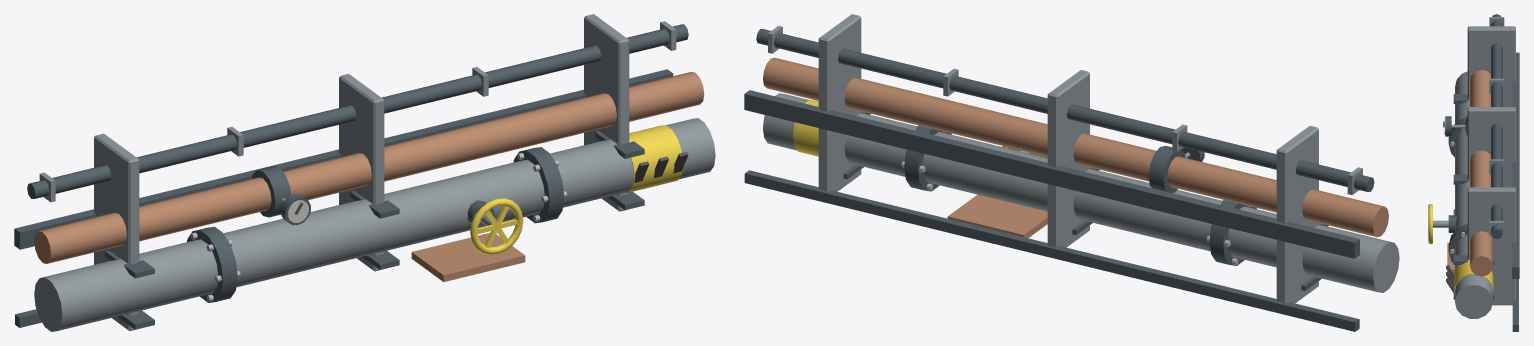
Rendered from cradle_pipe_run.glb.
The picture shows the model from 3 angles, left to right: view 1: azimuth 30°, elevation 25°; view 2: azimuth 150°, elevation 25°; view 3: azimuth 270°, elevation 25°; orthographic projection. The views are drawn at different scales.
Parts seen in each view (by area): view 1: steel.003, rust.001, darksteel.013, darksteel, steel, steel.001, steel.002, rust, hazard, darksteel.008, darksteel.009, hazard.001 (+1 smaller); view 2: rust.001, steel.003, darksteel, darksteel.001, darksteel.013, steel.002, steel.001, steel, rust, darksteel.011, darksteel.009, darksteel.008 (+1 smaller); view 3: steel.002, steel.003, rust.001, steel, steel.001, darksteel.013, darksteel, hazard, darksteel.009, darksteel.001, darksteel.008, hazard.001 (+11 smaller).
Part boxes in pixels (x1,y1,x2,y2): steel.003: [34, 118, 715, 331]; rust.001: [34, 72, 704, 263]; darksteel.013: [27, 24, 688, 198]; darksteel: [14, 69, 673, 249]; steel: [94, 133, 139, 330]; steel.001: [339, 74, 384, 271]; steel.002: [584, 14, 629, 211]; rust: [411, 233, 525, 281]; hazard: [625, 125, 682, 192]; darksteel.008: [187, 226, 237, 302]; darksteel.009: [513, 147, 564, 223]; hazard.001: [470, 198, 523, 254]; rust.001: [763, 57, 1388, 237]; steel.003: [763, 93, 1399, 292]; darksteel: [744, 90, 1359, 258]; darksteel.001: [744, 170, 1359, 331]; darksteel.013: [756, 29, 1374, 191]; steel.002: [818, 14, 861, 191]; steel.001: [1047, 70, 1089, 247]; steel: [1276, 126, 1318, 303]; rust: [947, 194, 1047, 238]; darksteel.011: [1148, 146, 1185, 192]; darksteel.009: [904, 125, 951, 191]; darksteel.008: [1209, 200, 1256, 265]; steel.002: [1467, 187, 1515, 305]; steel.003: [1455, 71, 1492, 318]; rust.001: [1470, 70, 1492, 276]; steel: [1467, 26, 1515, 106]; steel.001: [1467, 107, 1515, 187]; darksteel.013: [1491, 14, 1502, 238]; darksteel: [1512, 52, 1519, 278]; hazard: [1454, 259, 1493, 293]; darksteel.009: [1448, 224, 1467, 263]; darksteel.001: [1512, 279, 1518, 331]; darksteel.008: [1448, 116, 1466, 157]; hazard.001: [1428, 204, 1432, 244].
Bounding box in the file's own units: 4 × 1.07 × 0.7191.
